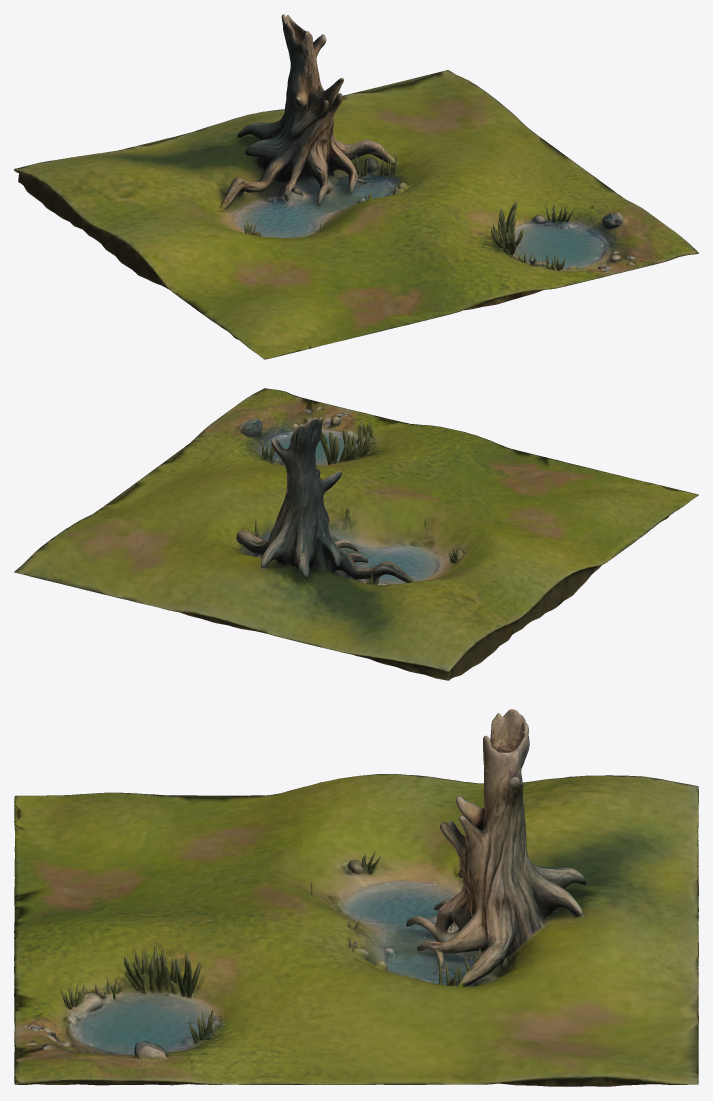
The model's file is terrain.glb.
3 renders of one model, top to bottom at view 1: azimuth 30°, elevation 25°; view 2: azimuth 150°, elevation 25°; view 3: azimuth 270°, elevation 25°, orthographic. The views are drawn at different scales.
Visible parts, largest first — view 1: tripo_node_32334748-c808-46b8-bea0-4e0817b4cbf0; view 2: tripo_node_32334748-c808-46b8-bea0-4e0817b4cbf0; view 3: tripo_node_32334748-c808-46b8-bea0-4e0817b4cbf0.
Boxes of the visible parts, bbox=[...] form: tripo_node_32334748-c808-46b8-bea0-4e0817b4cbf0: bbox=[14, 14, 698, 359]; tripo_node_32334748-c808-46b8-bea0-4e0817b4cbf0: bbox=[14, 388, 698, 680]; tripo_node_32334748-c808-46b8-bea0-4e0817b4cbf0: bbox=[14, 709, 698, 1086].
Size of the model in its own units: 100 by 37.77 by 100.
Materials: 1 (1 with a texture image).
